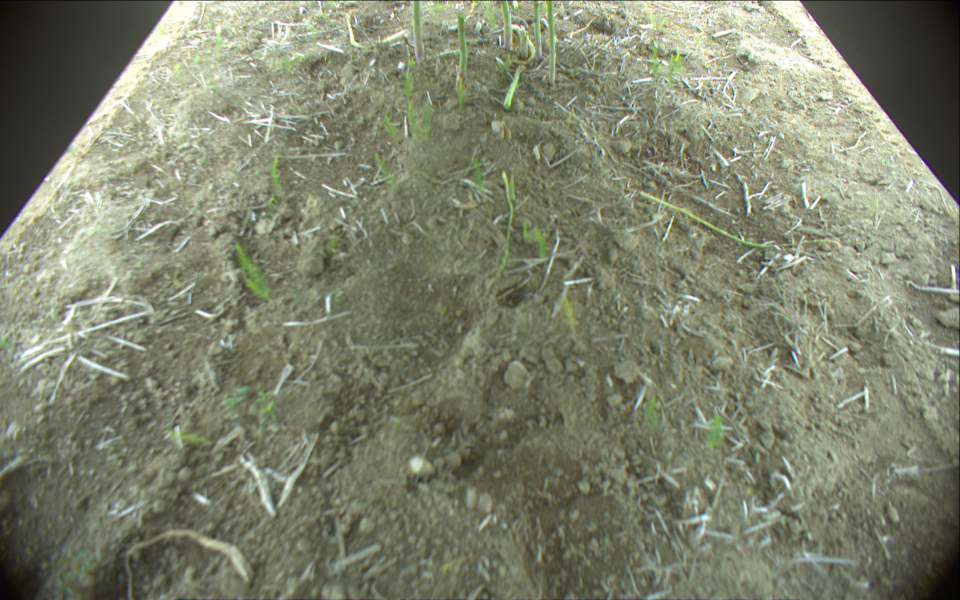aspa: (640, 192, 837, 248), (500, 171, 515, 277), (545, 1, 557, 85), (503, 64, 525, 108), (411, 1, 425, 63), (455, 13, 467, 84), (533, 1, 544, 62), (500, 1, 512, 49)
